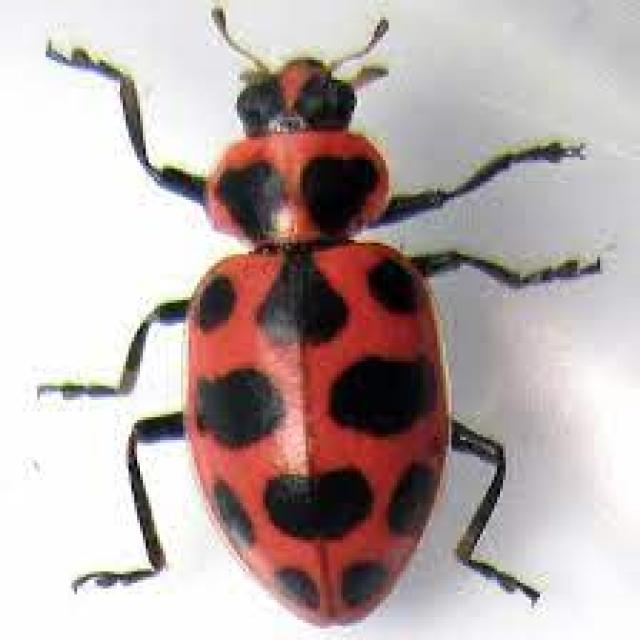bug: (28, 0, 612, 631)
